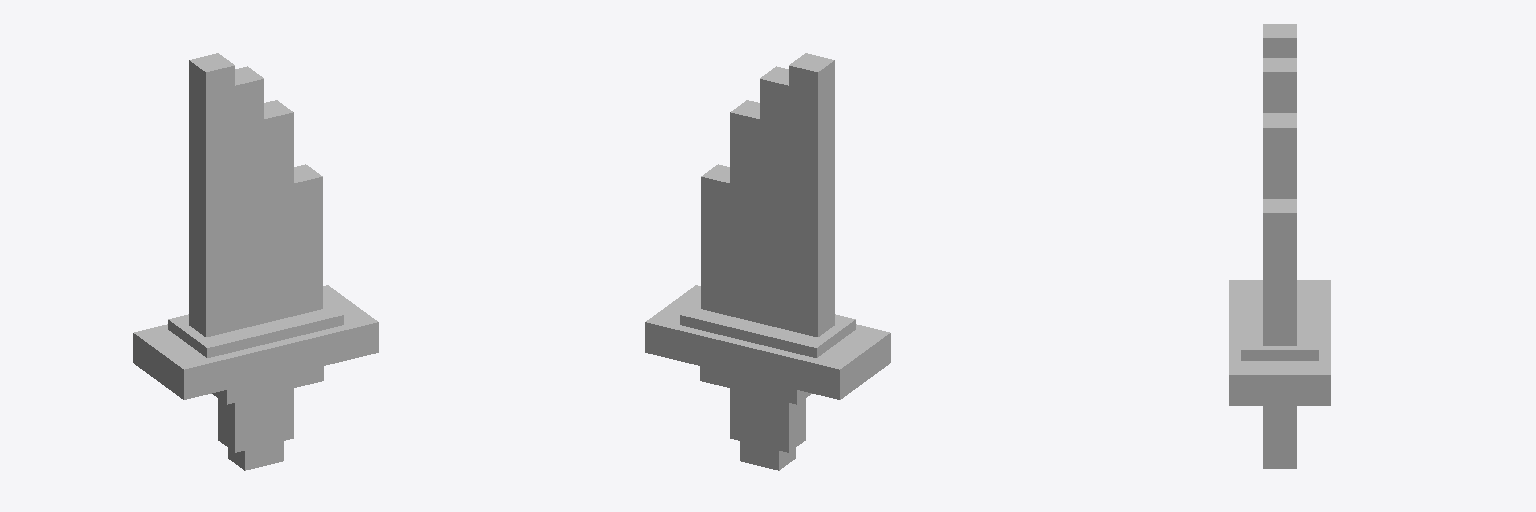
File: knife.obj
3 views of the same model, side by side, from view 1: azimuth 30°, elevation 25°; view 2: azimuth 150°, elevation 25°; view 3: azimuth 270°, elevation 25° (orthographic).
Parts seen in each view (by area): view 1: knife; view 2: knife; view 3: knife.
Part boxes in pixels (x1,y1,x2,y2): knife: (133,53,378,470); knife: (645,53,890,470); knife: (1229,24,1330,468).
Bounding box in the file's own units: 20 × 40 × 9.